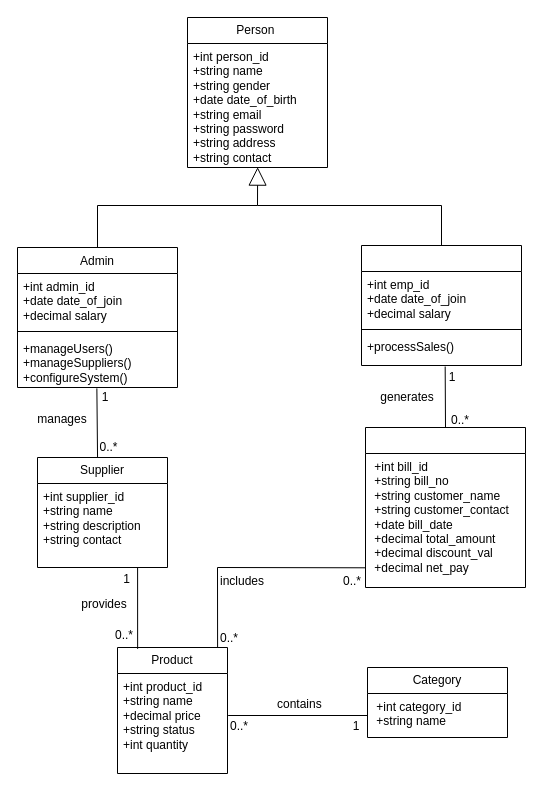
The diagram is 543 pixels wide and 794 high, and some of its shapes have lost their labels. The box of each missing label's shape, as (x1, y1, x2, y2) in pixels:
Billing: (364, 426, 526, 588)
Employee: (360, 244, 522, 366)
